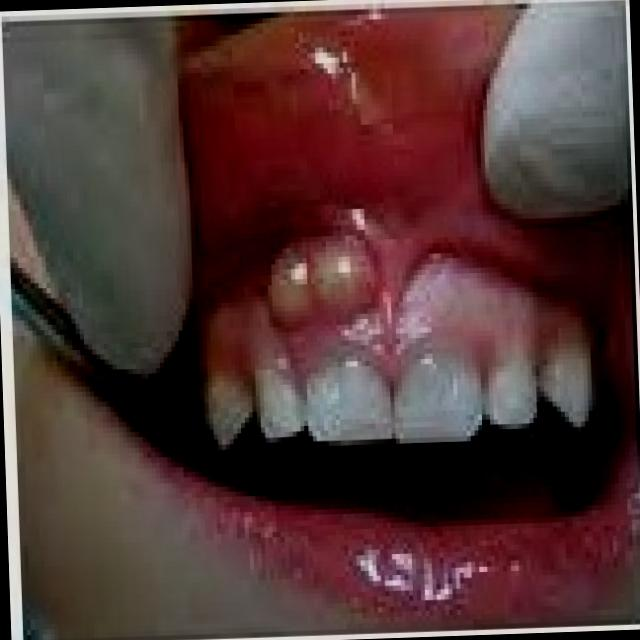abscess: (236, 244, 394, 348)
